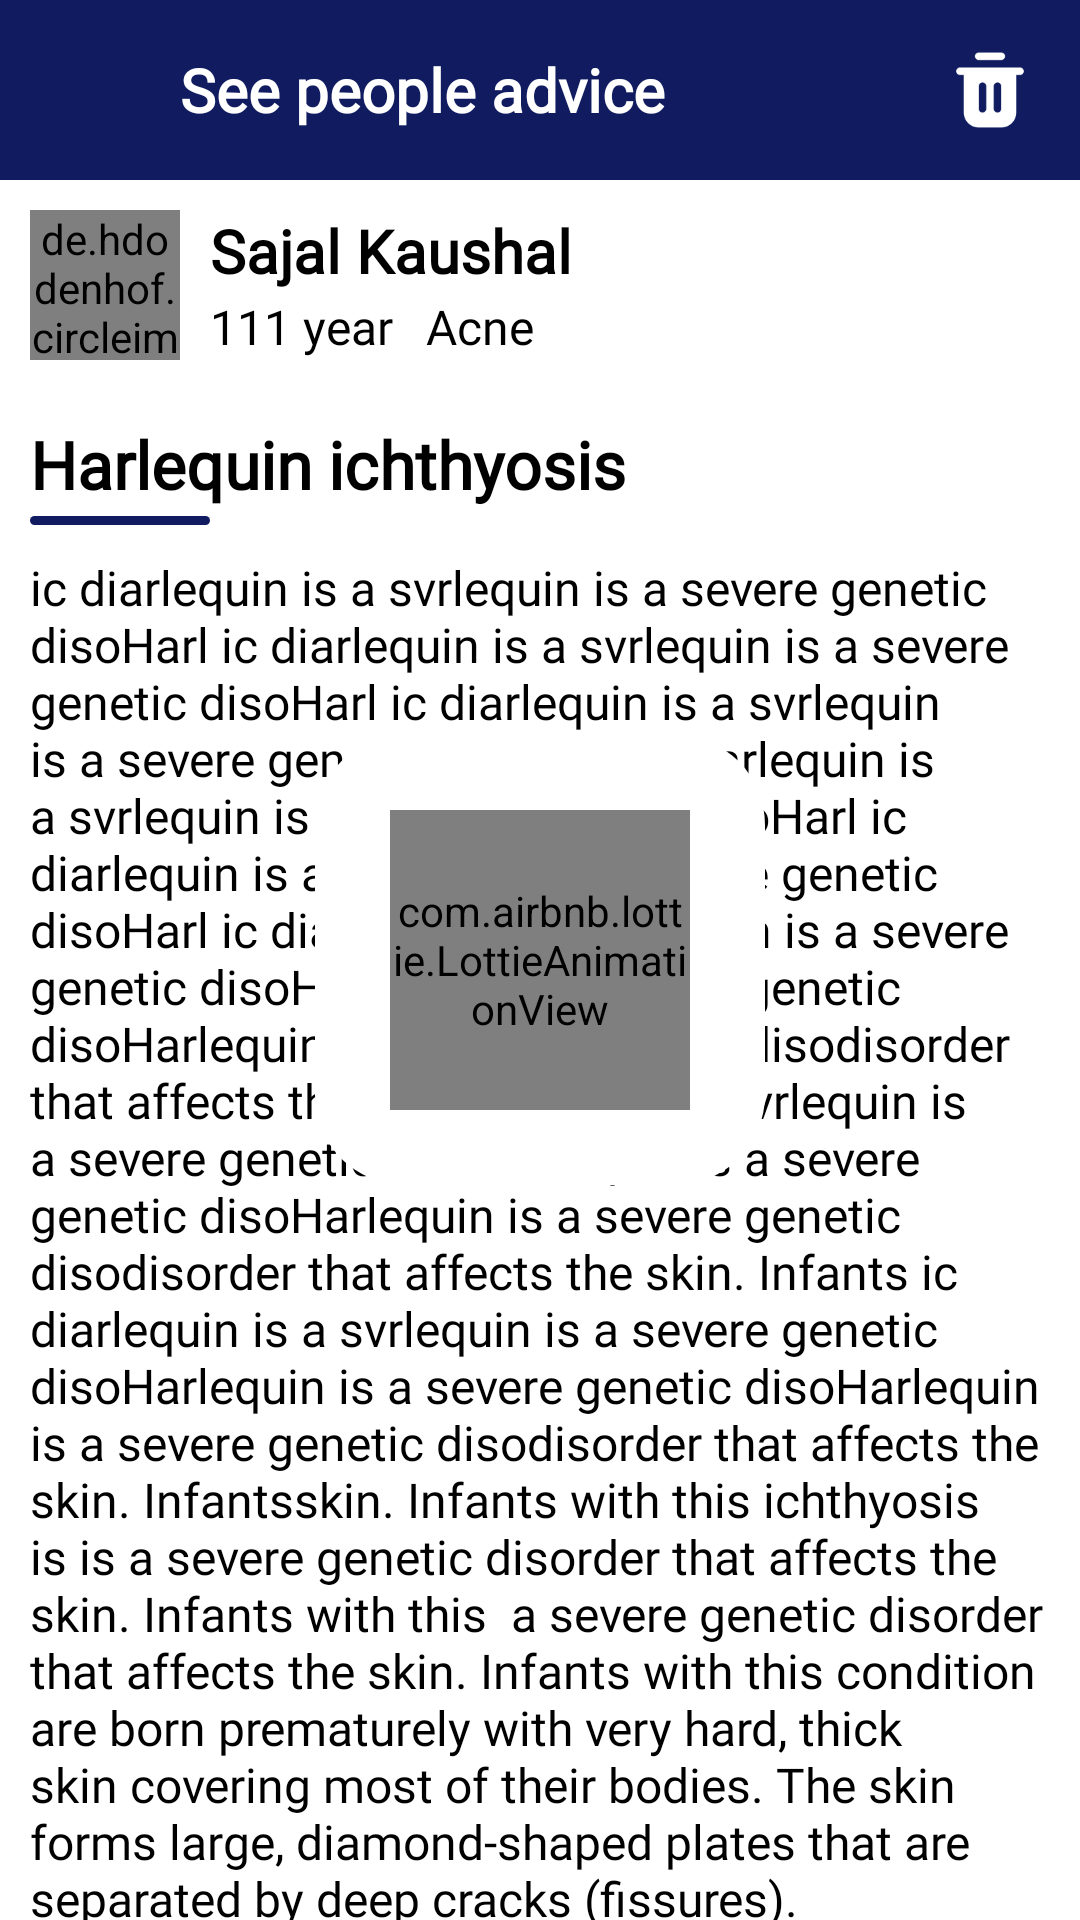

Screen size 1080w x 1920h. Icon name, then its box in pixels as box(x1, y1, x2, y2):
trash: box(956, 52, 1024, 128)
